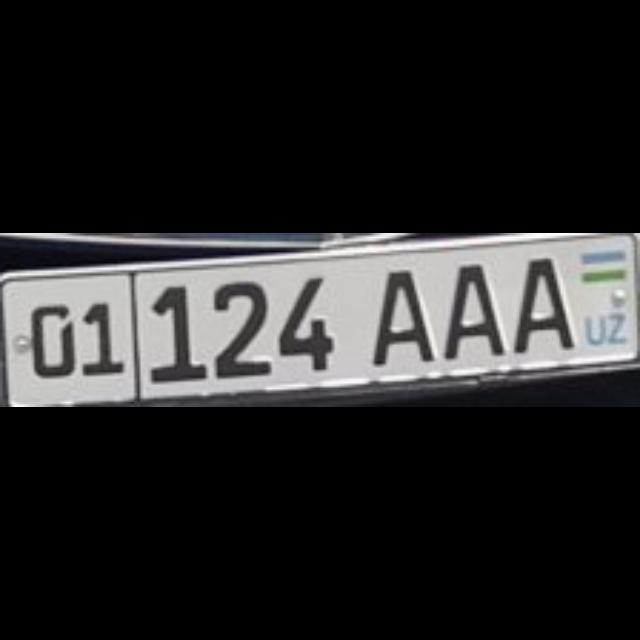0: (28, 302, 72, 376)
1: (146, 282, 202, 382), (78, 299, 120, 373)
2: (208, 278, 266, 376)
4: (274, 273, 328, 367)
A: (369, 267, 429, 361), (440, 262, 500, 356), (511, 253, 571, 347)
